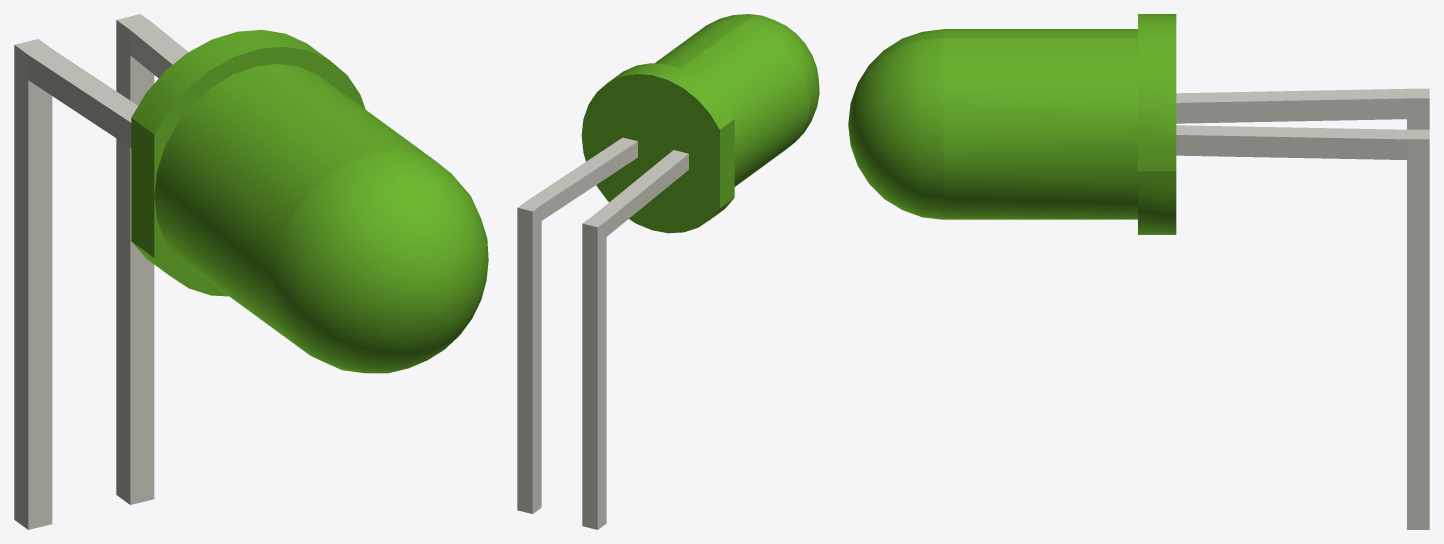
The model's file is kc-led_d5.0mm_horizontal_o6.35mm_z9.0mm.glb.
3 renders of one model, left to right at view 1: azimuth 30°, elevation 25°; view 2: azimuth 150°, elevation 25°; view 3: azimuth 270°, elevation 25°, orthographic. The views are drawn at different scales.
Visible parts, largest first — view 1: 0.16666666666666666_0.4166666666666667_0_0, 0.6666666666666666_0.6666666666666666_0.5833333333333334_0.8; view 2: 0.16666666666666666_0.4166666666666667_0_0, 0.6666666666666666_0.6666666666666666_0.5833333333333334_0.8; view 3: 0.16666666666666666_0.4166666666666667_0_0, 0.6666666666666666_0.6666666666666666_0.5833333333333334_0.8.
Boxes of the visible parts, x1,y1,x2,y2 form: 0.16666666666666666_0.4166666666666667_0_0: (131,30,488,373); 0.6666666666666666_0.6666666666666666_0.5833333333333334_0.8: (14,14,188,529); 0.16666666666666666_0.4166666666666667_0_0: (581,14,819,233); 0.6666666666666666_0.6666666666666666_0.5833333333333334_0.8: (517,137,688,529); 0.16666666666666666_0.4166666666666667_0_0: (848,14,1176,234); 0.6666666666666666_0.6666666666666666_0.5833333333333334_0.8: (1176,88,1429,529).
Bounding box in the file's own units: 0.54 × 1.39 × 1.52.
